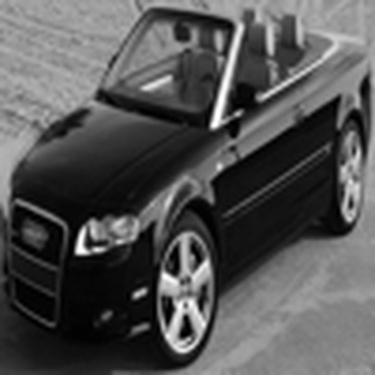car: (12, 10, 374, 348)
